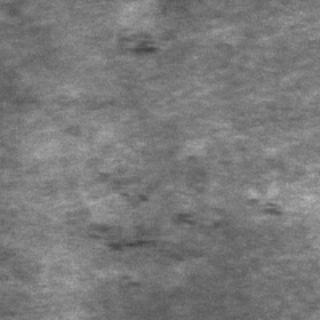rolled pit: (82, 167, 274, 256), (111, 24, 181, 56)
